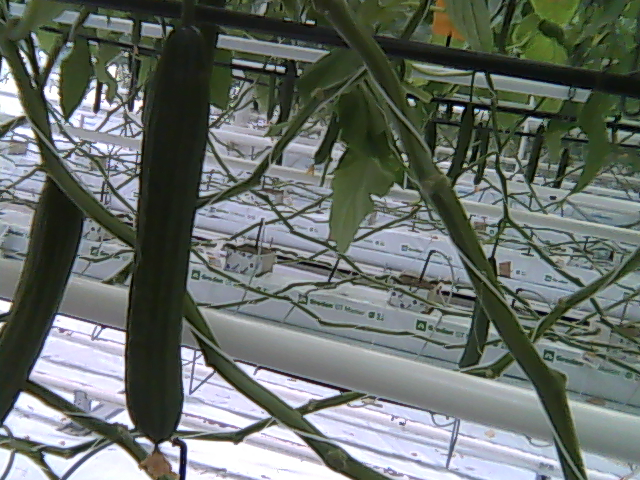concombre: (123, 8, 216, 480), (1, 170, 87, 431)
